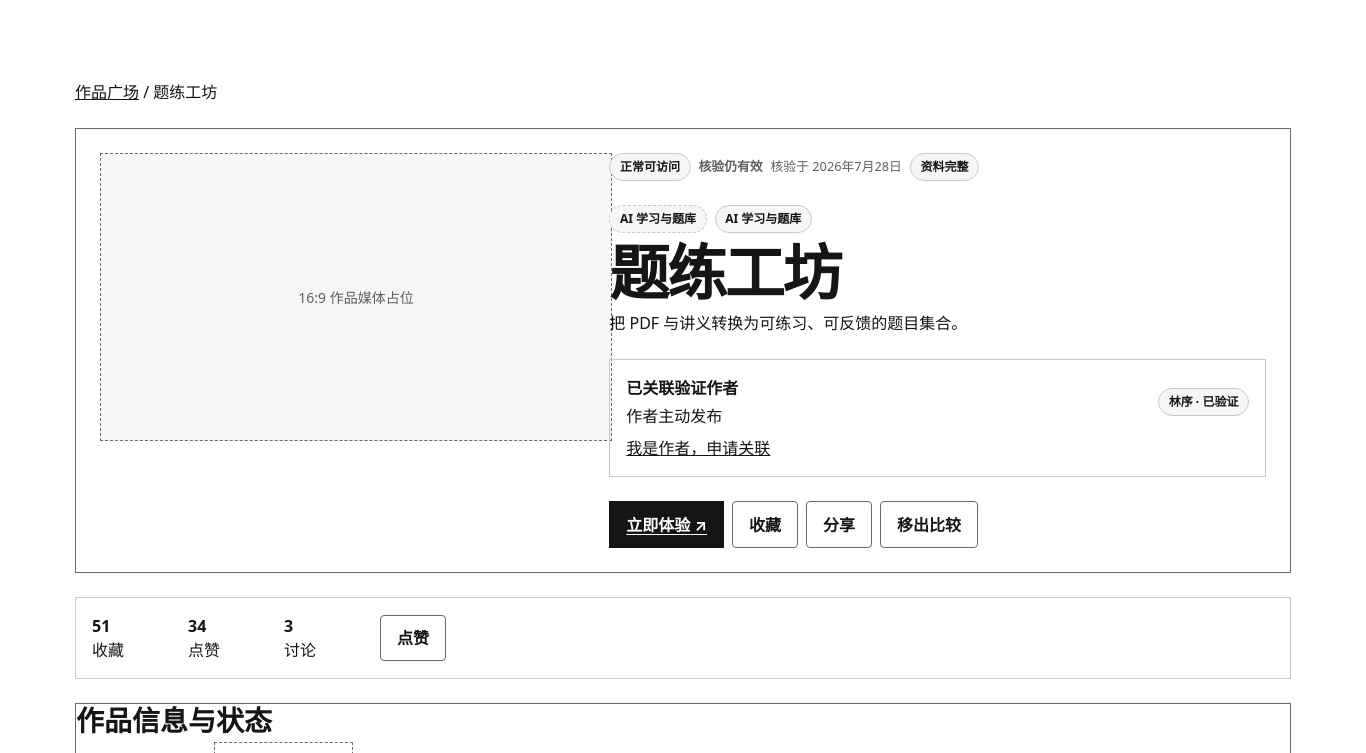
ProjectDetailPage hero › routes protected collection through login while sharing remains available
Click the button "收藏" at (765, 525), box [732,501,798,548]
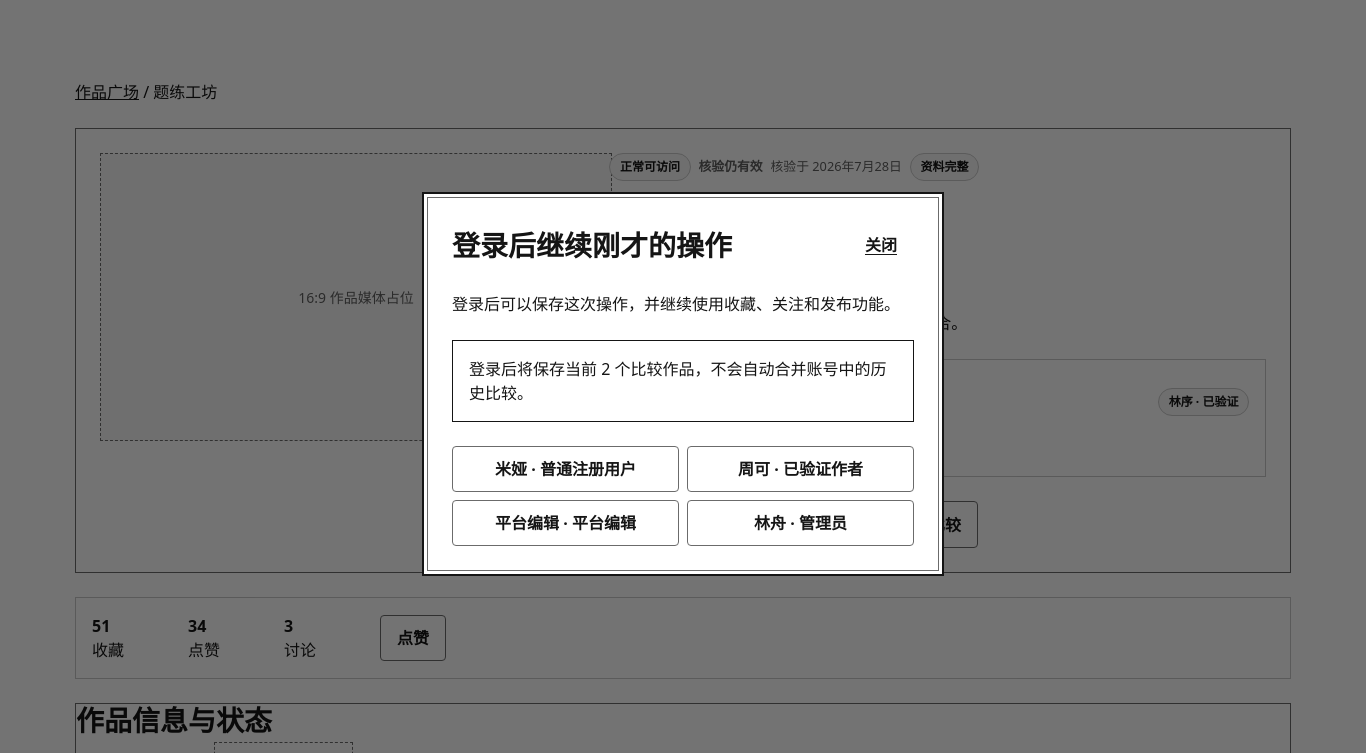
Result: the dialog "登录后继续刚才的操作" is shown at [427,197,939,571]
Click the button with aria-label "关闭弹层" at (881, 245), box [848,222,914,268]
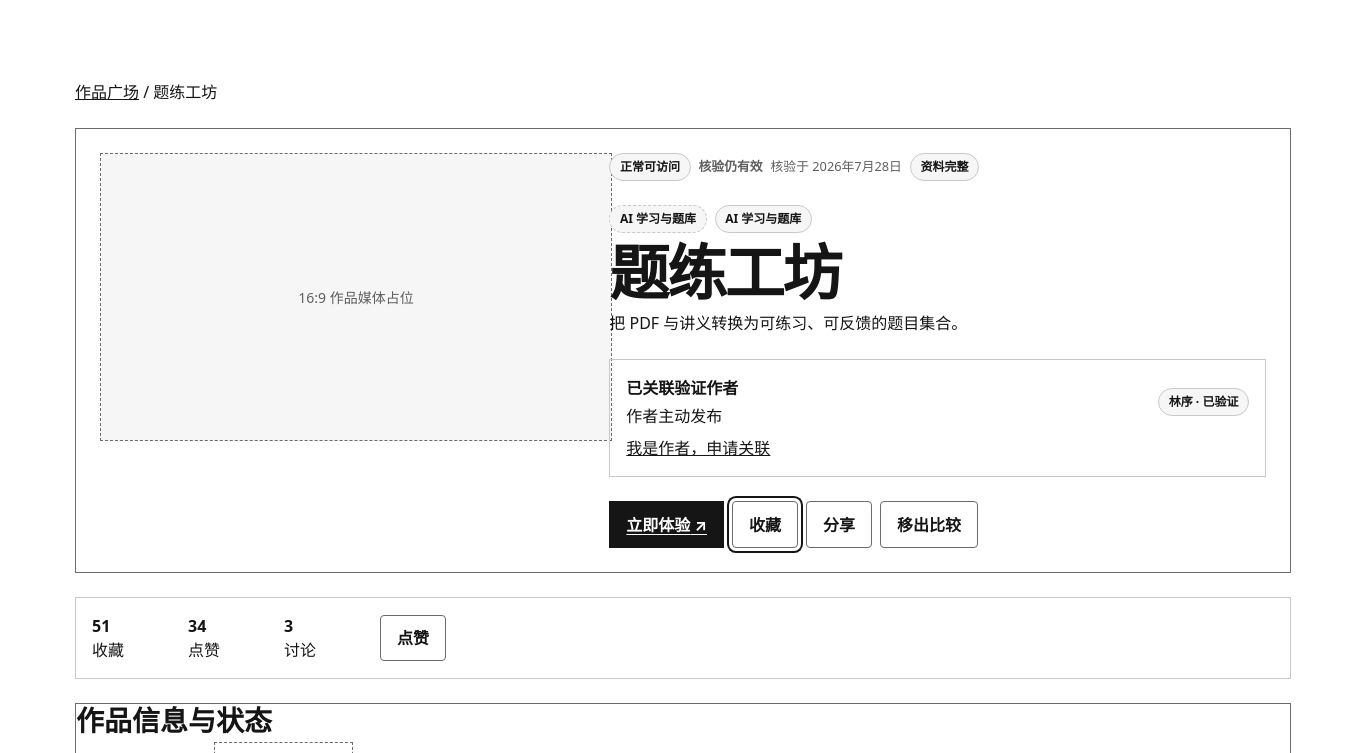
Click the button "分享" at (839, 525), box [806,501,872,548]
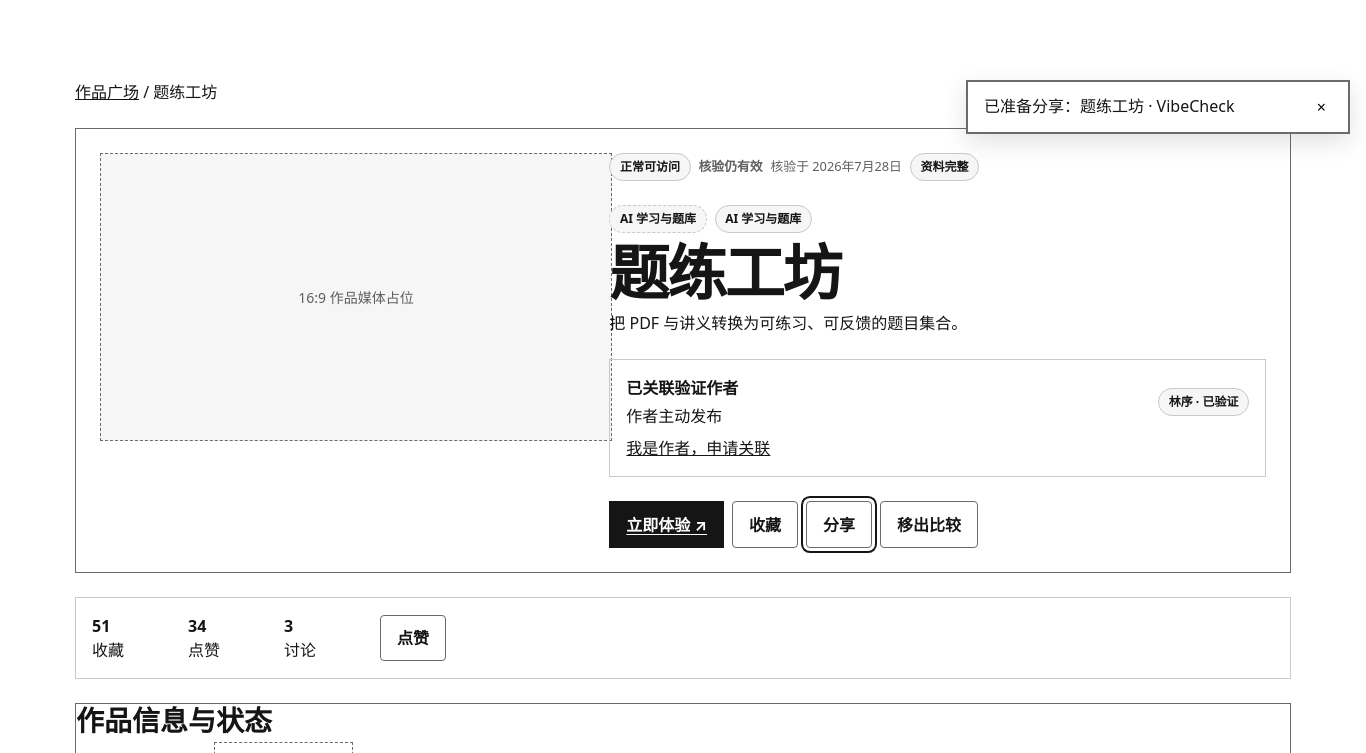
Result: the text "已准备分享：题练工坊 · VibeCheck" is shown at [984,94,1234,120]
